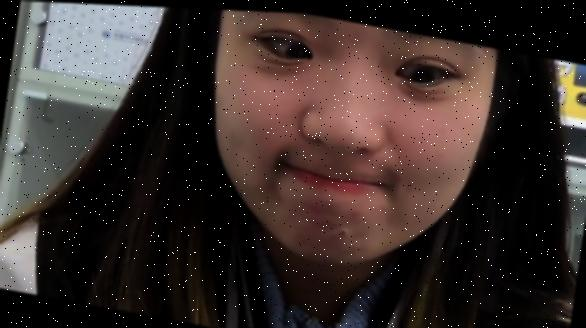eye: (412, 65, 430, 80), (289, 42, 304, 56)
iris: (400, 56, 456, 85), (258, 31, 311, 61)
